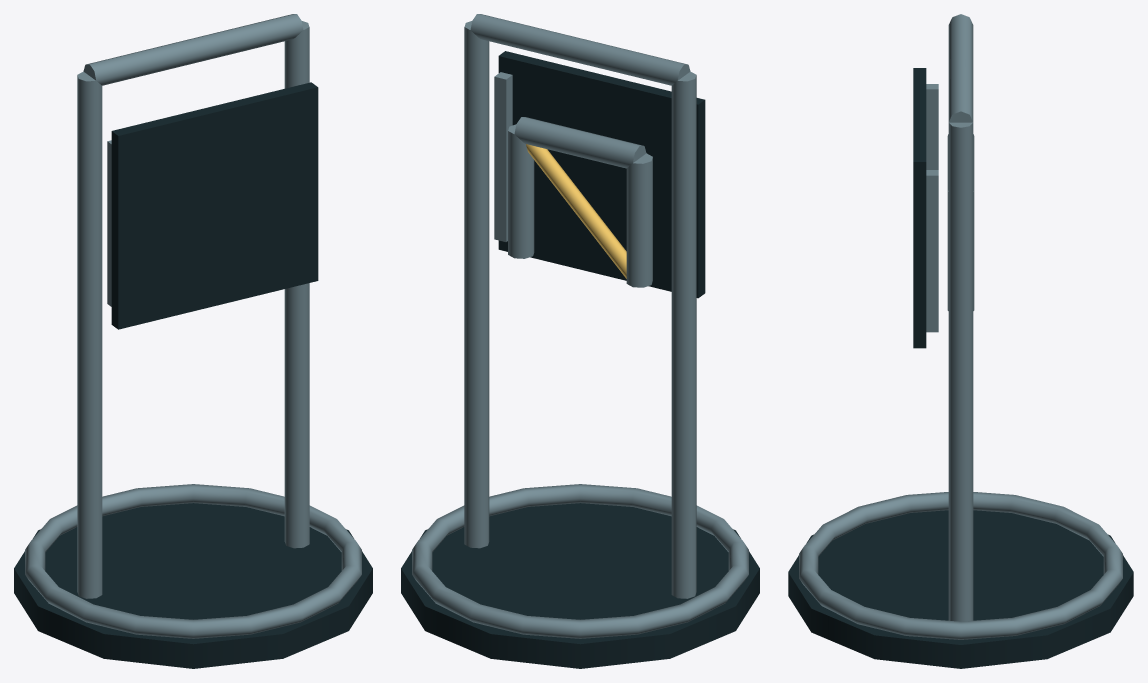
The model's file is pickup-frame.glb.
3 renders of one model, left to right at view 1: azimuth 30°, elevation 25°; view 2: azimuth 150°, elevation 25°; view 3: azimuth 270°, elevation 25°, orthographic. The views are drawn at different scales.
Visible parts, largest first — view 1: pickup-frame; view 2: pickup-frame; view 3: pickup-frame.
Boxes of the visible parts, <box> form: pickup-frame: <box>14,14,372,668</box>; pickup-frame: <box>401,14,759,668</box>; pickup-frame: <box>788,14,1133,668</box>.
Size of the model in its own units: 2.1 by 3.58 by 2.1.
